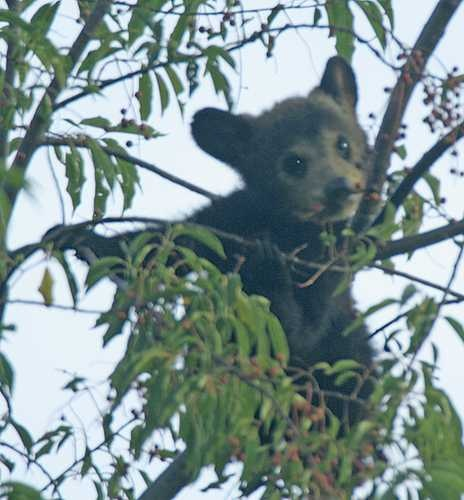bear: (152, 81, 280, 210), (266, 48, 394, 177), (247, 108, 375, 236)
